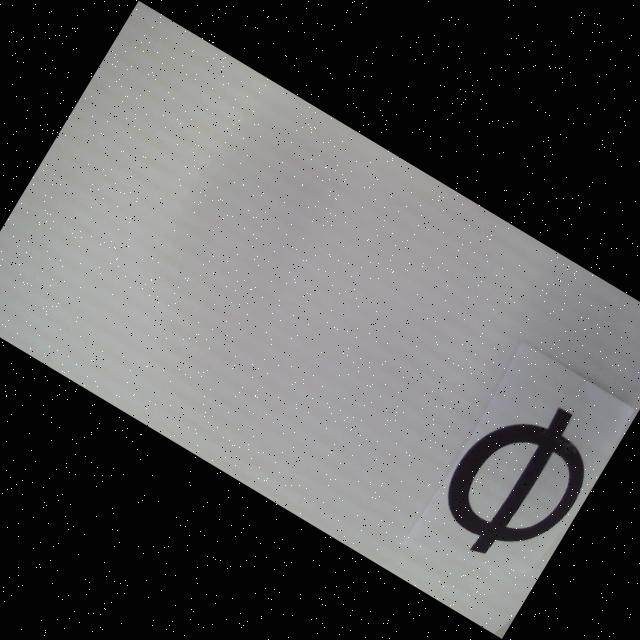PHI: (424, 377, 614, 584)
